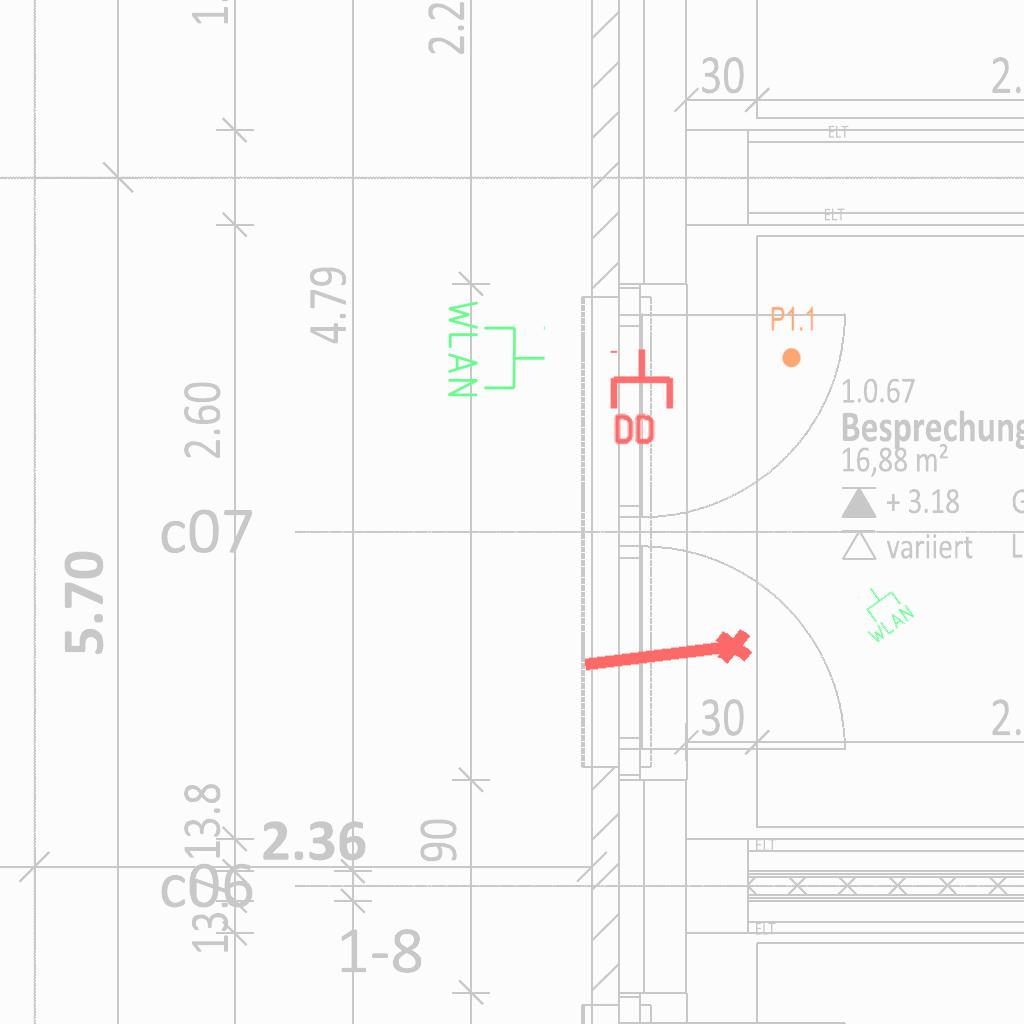ASR_Ansaugoeffnung: (576, 623, 758, 691)
Datenanschluss_zweifach: (609, 346, 678, 449)
Downlight_LED_Einbauleuchten_Flur: (770, 305, 816, 369)
WLAN: (444, 296, 548, 401), (844, 574, 918, 648)
